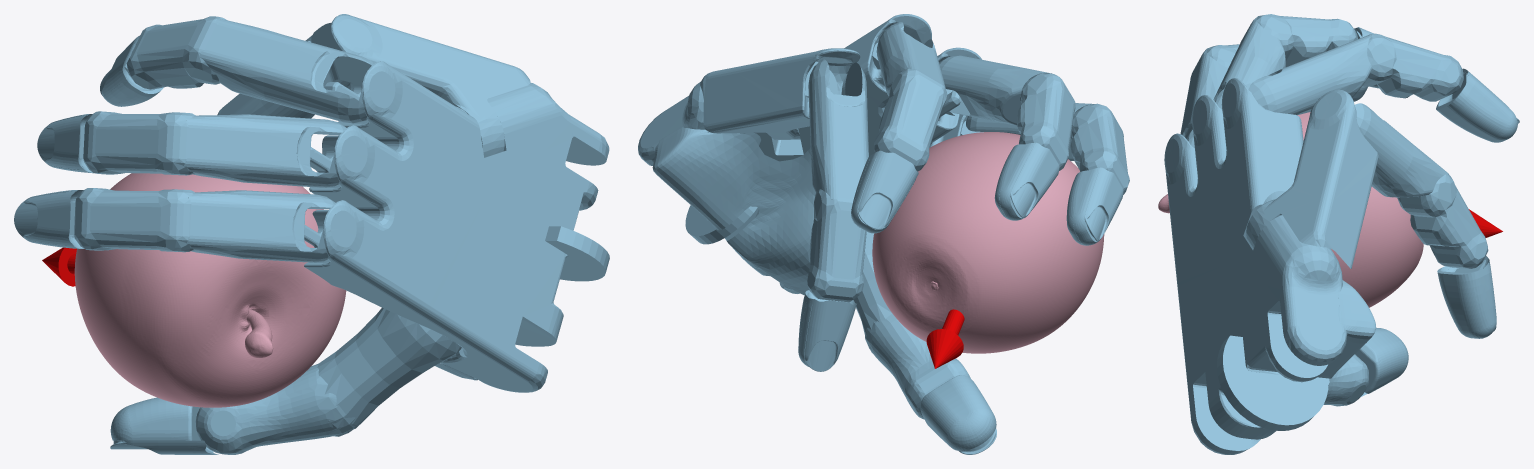
3 renders of one model, left to right at view 1: azimuth 30°, elevation 25°; view 2: azimuth 150°, elevation 25°; view 3: azimuth 270°, elevation 25°, orthographic. The views are drawn at different scales.
Visible parts, largest first — view 1: world, apple.stl; view 2: world, apple.stl; view 3: world, apple.stl.
Boxes of the visible parts, x1,y1,x2,y2 form: world: (14,14,609,454); apple.stl: (74,173,346,407); world: (638,14,1129,454); apple.stl: (872,132,1104,353); world: (1164,14,1519,454); apple.stl: (1158,112,1423,307).
Bounding box in the file's own units: 0.1893 × 0.1361 × 0.1202.
